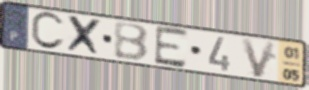4: (207, 36, 232, 73)
B: (112, 21, 151, 63)
C: (29, 11, 66, 52)
E: (153, 25, 191, 70)
V: (239, 36, 279, 79)
X: (65, 14, 104, 59)
